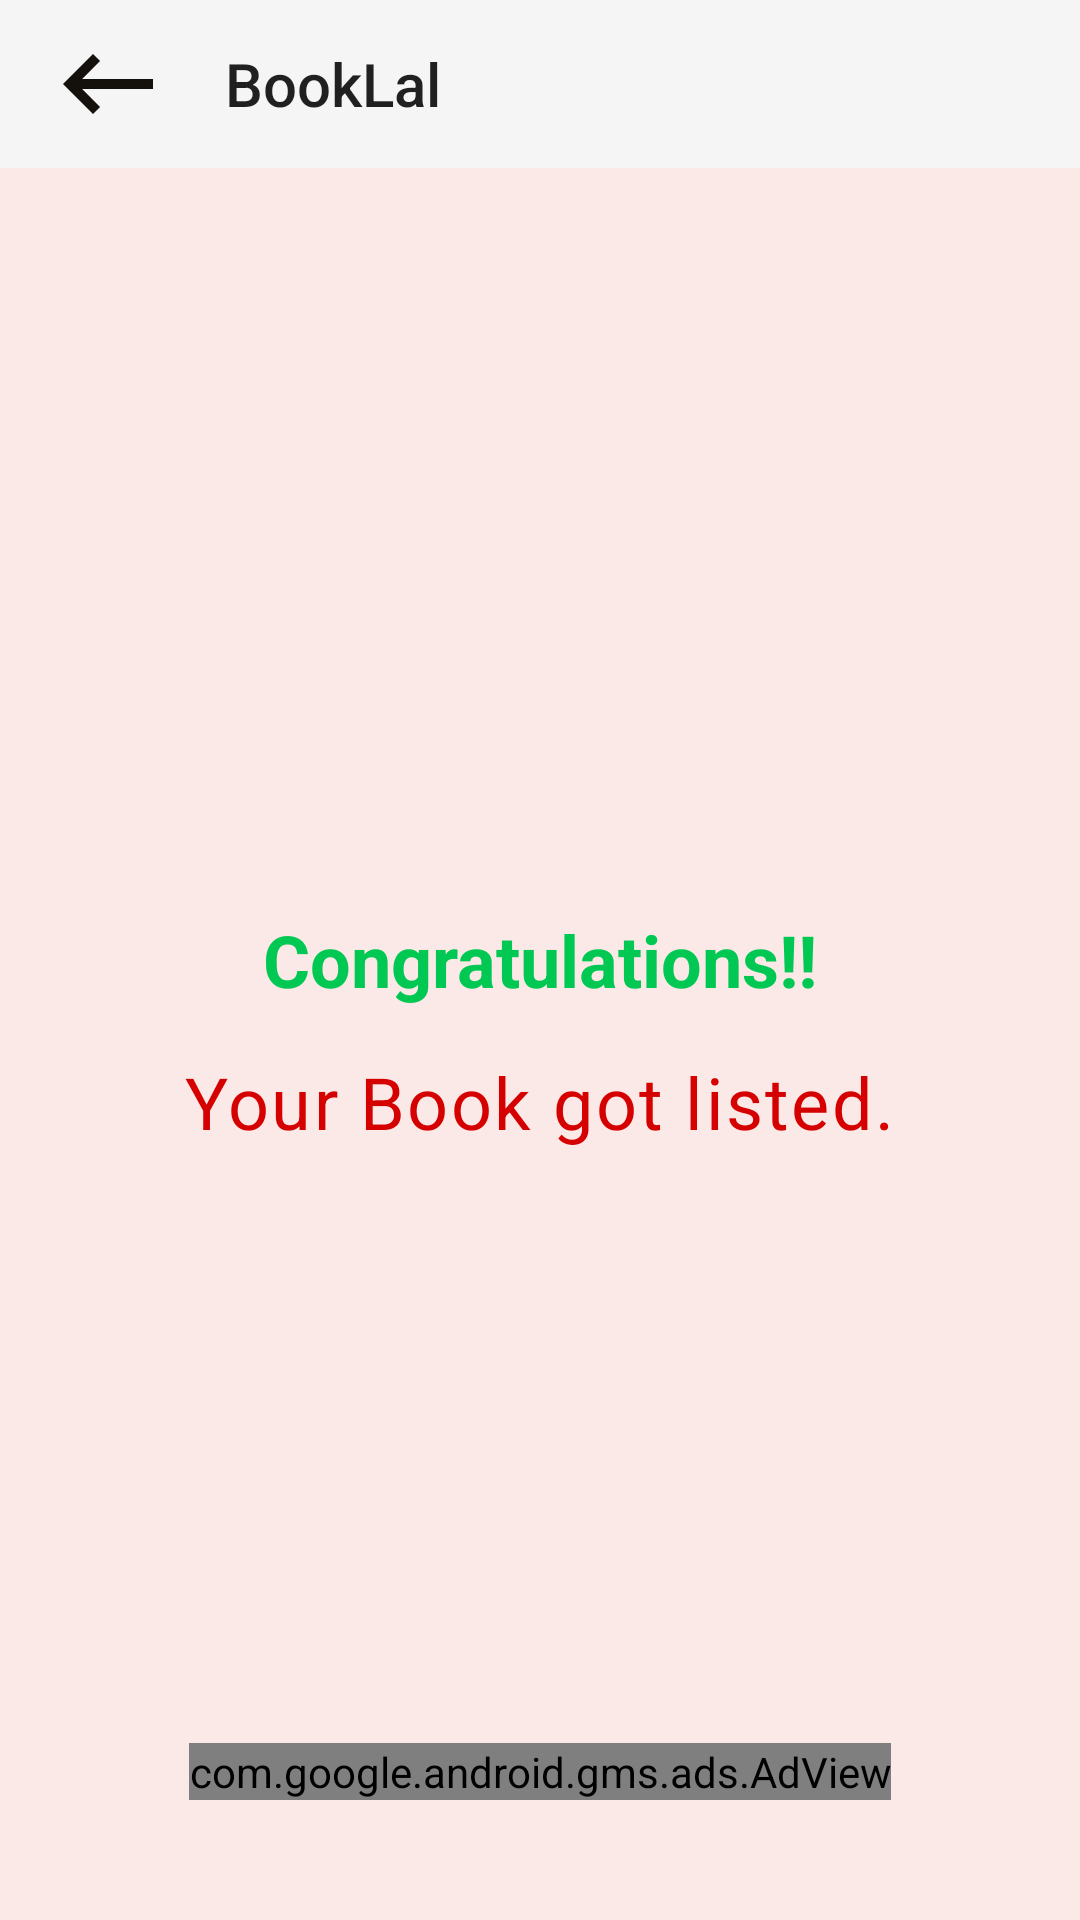

Screen size 1080w x 1920h. Icon name, then its center in pixels as point (x, y):
long back arrow: point (108, 84)
